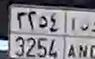2: (27, 10, 36, 58)
3: (14, 10, 26, 59)
4: (47, 12, 60, 58)
5: (37, 13, 47, 58)
A: (67, 15, 75, 58)
D: (90, 19, 95, 59)
N: (78, 16, 89, 58)
